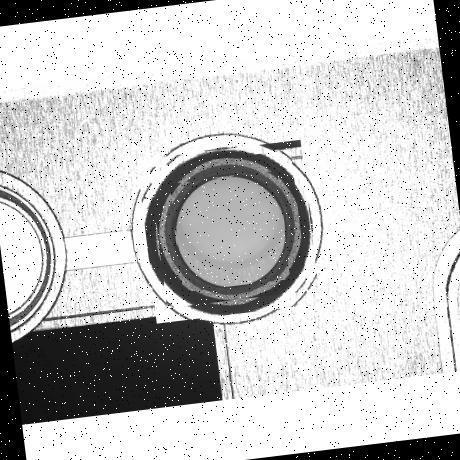Hole: (136, 139, 322, 323)
Hole2: (150, 150, 308, 309)
Hole3: (158, 157, 300, 302)
Hole4: (170, 170, 290, 292)
